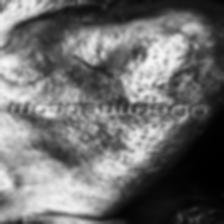Non-Cancerous Skin Condition: (0, 34, 218, 98), (23, 122, 157, 178)
